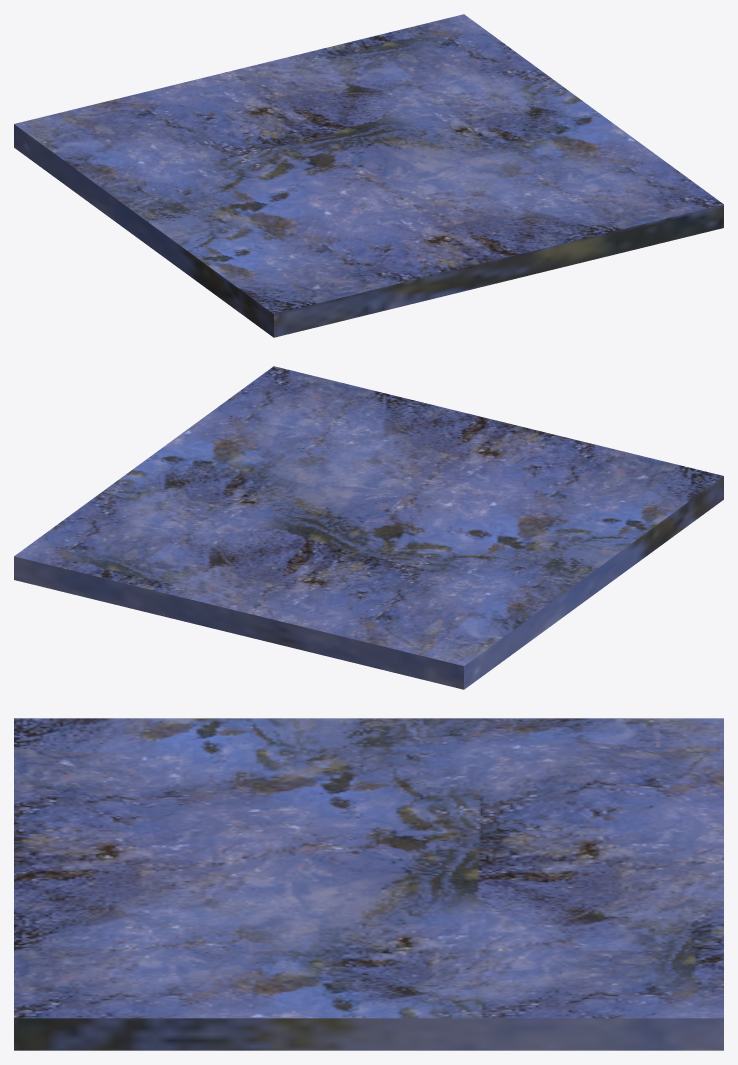
Rendered from Water.glb.
3 views of the same model, one above another, from view 1: azimuth 30°, elevation 25°; view 2: azimuth 150°, elevation 25°; view 3: azimuth 270°, elevation 25° (orthographic). The views are drawn at different scales.
Parts seen in each view (by area): view 1: Cube; view 2: Cube; view 3: Cube.
Boxes of the visible parts, left/top/right/bottom form: Cube: left=14, top=14, right=723, bottom=337; Cube: left=14, top=366, right=723, bottom=689; Cube: left=14, top=718, right=723, bottom=1050.
Bounding box in the file's own units: 2 × 0.1333 × 2.
Materials: 1 (1 with a texture image).
